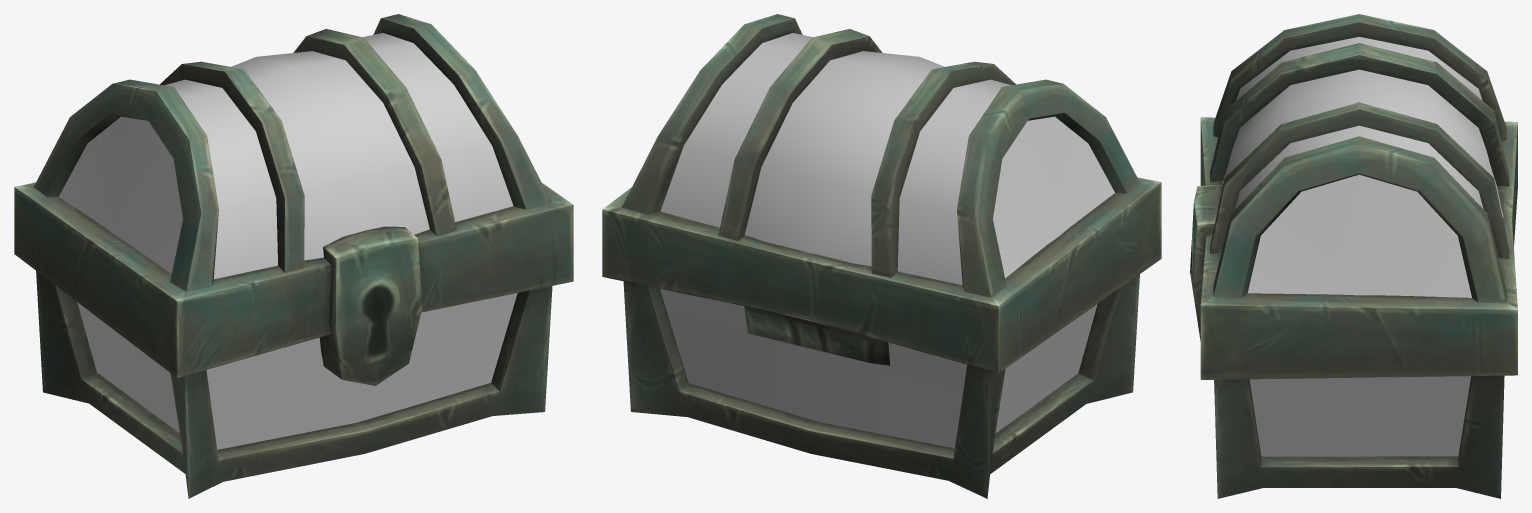
File: chest_2.fbx
3 renders of one model, left to right at view 1: azimuth 30°, elevation 25°; view 2: azimuth 150°, elevation 25°; view 3: azimuth 270°, elevation 25°, orthographic. The views are drawn at different scales.
Visible parts, largest first — view 1: Box001.001, Box001; view 2: Box001.001, Box001; view 3: Box001.001, Box001.
Part boxes in pixels (<box>): Box001.001: <box>14,14,573,498</box>; Box001: <box>58,33,517,449</box>; Box001.001: <box>602,14,1161,498</box>; Box001: <box>660,33,1114,448</box>; Box001.001: <box>1190,14,1517,498</box>; Box001: <box>1220,36,1503,456</box>.
Size of the model in its own units: 95.39 by 79.99 by 70.3.
